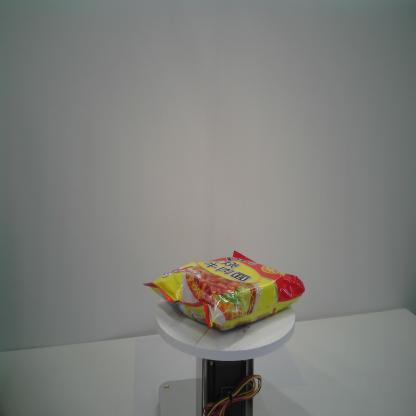Instant Noodles: (142, 250, 306, 334)
